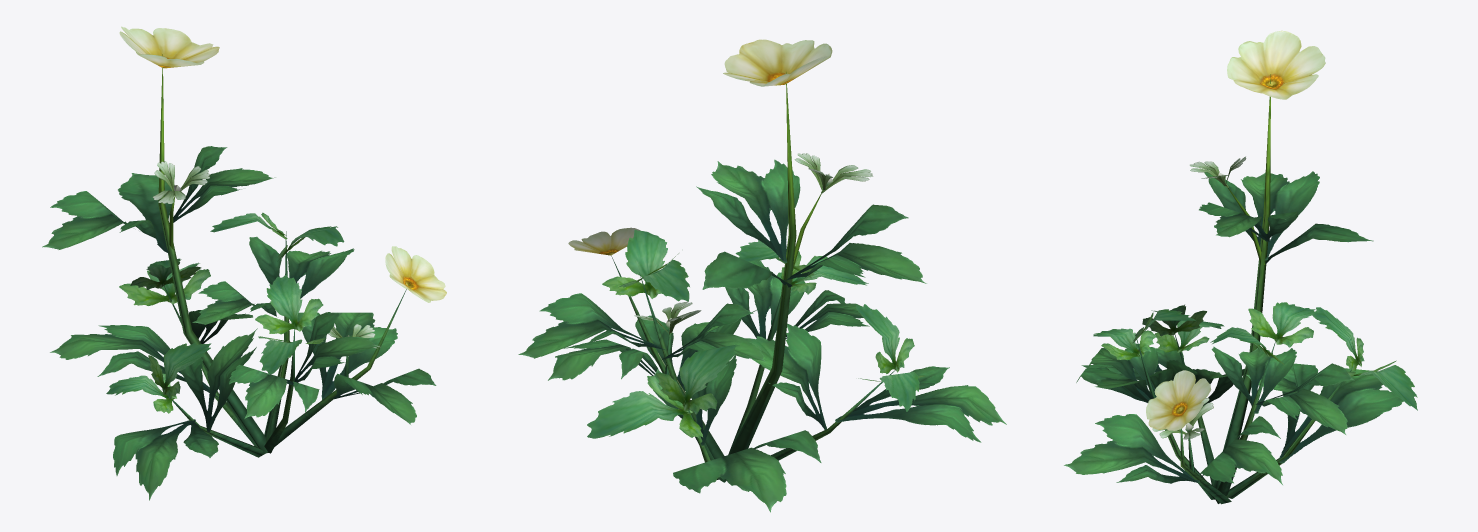
The model's file is wm_灌木洛阳城花草03.fbx.
3 views of the same model, side by side, from view 1: azimuth 30°, elevation 25°; view 2: azimuth 150°, elevation 25°; view 3: azimuth 270°, elevation 25° (orthographic). The views are drawn at different scales.
Parts seen in each view (by area): view 1: wm_灌木洛阳城花草03; view 2: wm_灌木洛阳城花草03; view 3: wm_灌木洛阳城花草03.
Part boxes in pixels (bbox=[...]): wm_灌木洛阳城花草03: bbox=[42, 26, 446, 500]; wm_灌木洛阳城花草03: bbox=[518, 39, 1006, 512]; wm_灌木洛阳城花草03: bbox=[1064, 30, 1417, 504].
Bounding box in the file's own units: 129 × 139 × 123.
